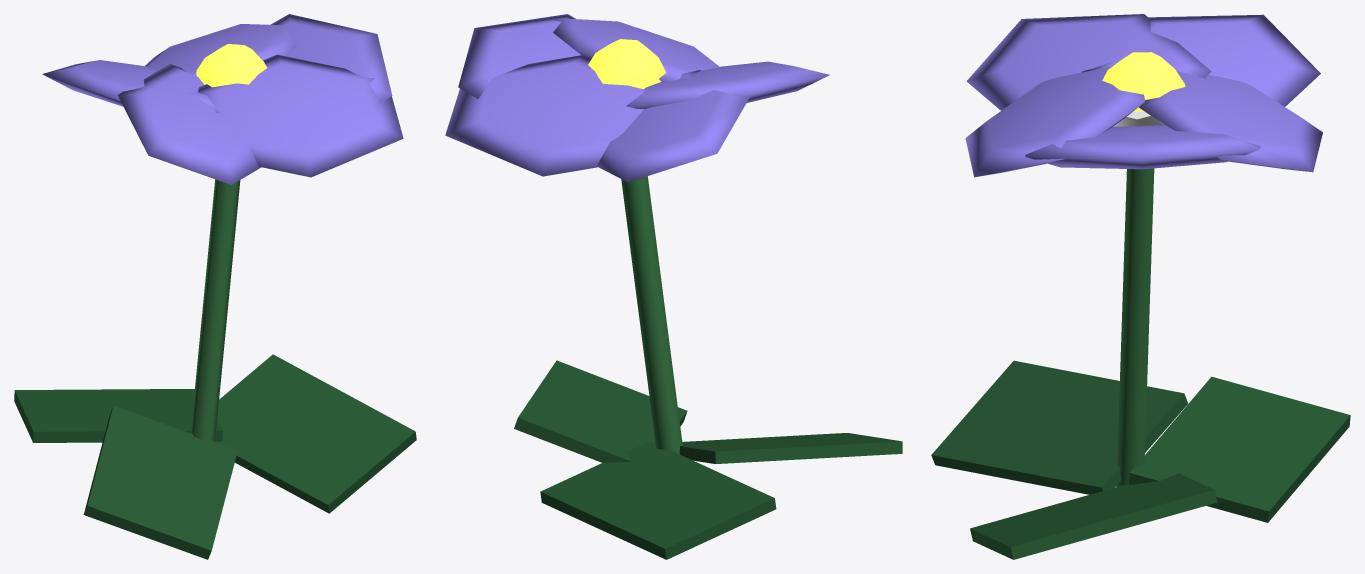
File: flower-single-lavender.glb
3 renders of one model, left to right at view 1: azimuth 30°, elevation 25°; view 2: azimuth 150°, elevation 25°; view 3: azimuth 270°, elevation 25°, orthographic. The views are drawn at different scales.
Parts seen in each view (by area): view 1: SingleFlower_Lavender_darkLeaf, SingleFlower_Lavender_flowerLavender, SingleFlower_Lavender_stemGreen, SingleFlower_Lavender_flowerCenterGold; view 2: SingleFlower_Lavender_flowerLavender, SingleFlower_Lavender_darkLeaf, SingleFlower_Lavender_stemGreen, SingleFlower_Lavender_flowerCenterGold; view 3: SingleFlower_Lavender_darkLeaf, SingleFlower_Lavender_flowerLavender, SingleFlower_Lavender_stemGreen, SingleFlower_Lavender_flowerCenterGold.
Part boxes in pixels (<box>): SingleFlower_Lavender_darkLeaf: <box>14,354,416,559</box>; SingleFlower_Lavender_flowerLavender: <box>42,14,403,184</box>; SingleFlower_Lavender_stemGreen: <box>190,179,240,442</box>; SingleFlower_Lavender_flowerCenterGold: <box>196,44,266,87</box>; SingleFlower_Lavender_flowerLavender: <box>445,14,829,182</box>; SingleFlower_Lavender_darkLeaf: <box>514,360,902,559</box>; SingleFlower_Lavender_stemGreen: <box>621,176,682,454</box>; SingleFlower_Lavender_flowerCenterGold: <box>588,39,666,88</box>; SingleFlower_Lavender_darkLeaf: <box>931,360,1350,559</box>; SingleFlower_Lavender_flowerLavender: <box>965,14,1322,177</box>; SingleFlower_Lavender_stemGreen: <box>1116,168,1154,486</box>; SingleFlower_Lavender_flowerCenterGold: <box>1102,52,1185,111</box>.
Size of the model in its own units: 0.3417 by 0.391 by 0.3131.
